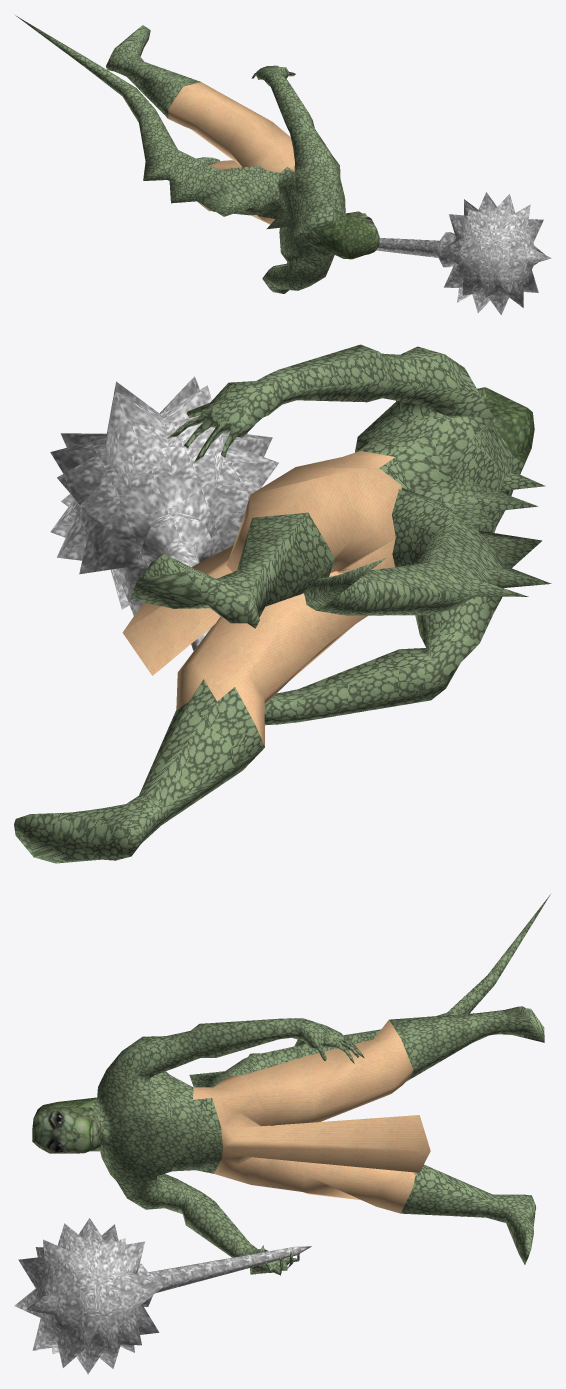
Rendered from makardhwaja_000238.obj.
The picture shows the model from 3 angles, top to bottom: view 1: azimuth 30°, elevation 25°; view 2: azimuth 150°, elevation 25°; view 3: azimuth 270°, elevation 25°; orthographic projection. The views are drawn at different scales.
Visible parts, largest first — view 1: hanuman_Cube.000, mace_Cube.008; view 2: hanuman_Cube.000, mace_Cube.008; view 3: hanuman_Cube.000, mace_Cube.008.
Part boxes in pixels (<box>): hanuman_Cube.000: <box>15,15,379,293</box>; mace_Cube.008: <box>376,192,551,314</box>; hanuman_Cube.000: <box>14,344,551,863</box>; mace_Cube.008: <box>50,376,278,650</box>; hanuman_Cube.000: <box>32,894,550,1275</box>; mace_Cube.008: <box>14,1218,311,1374</box>.
Bounding box in the file's own units: 3.08 × 1.93 × 3.27.
